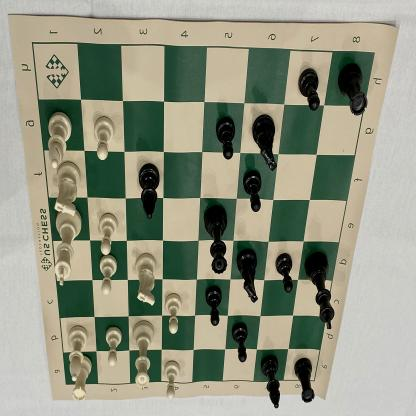black-bishop: (137, 160, 161, 220), (260, 354, 282, 412)
black-king: (304, 249, 335, 334)
black-knight: (251, 112, 278, 174), (236, 248, 260, 305)
black-pawn: (297, 66, 321, 115), (214, 116, 236, 162), (241, 170, 263, 214), (274, 250, 296, 294), (203, 284, 225, 328), (229, 322, 250, 366)
black-queen: (203, 203, 228, 277)
black-rook: (337, 62, 369, 120), (294, 355, 316, 406)
white-bishop: (45, 111, 74, 171), (64, 324, 89, 382)
white-king: (52, 207, 83, 288)
white-knight: (52, 161, 83, 217), (133, 251, 158, 306)
white-pawn: (95, 210, 121, 256), (92, 114, 116, 161), (102, 322, 124, 367), (97, 252, 118, 298), (164, 292, 185, 335), (162, 358, 182, 402)
white-queen: (130, 318, 156, 392)
white-rook: (71, 354, 93, 403)
